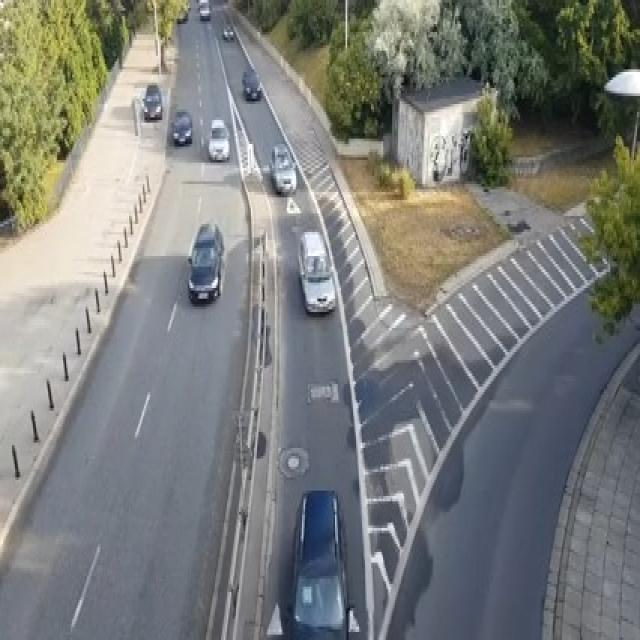car: (287, 488, 359, 637), (298, 229, 336, 315), (186, 221, 224, 304), (269, 141, 296, 195), (207, 117, 230, 160), (141, 83, 162, 120), (240, 66, 262, 98), (172, 109, 192, 144), (198, 0, 210, 19), (222, 24, 235, 40), (176, 6, 188, 22)
